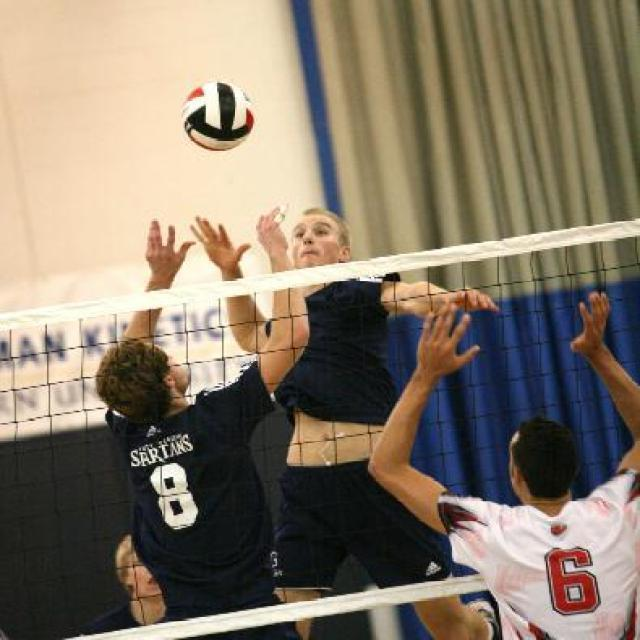volleyball: (180, 80, 254, 152)
